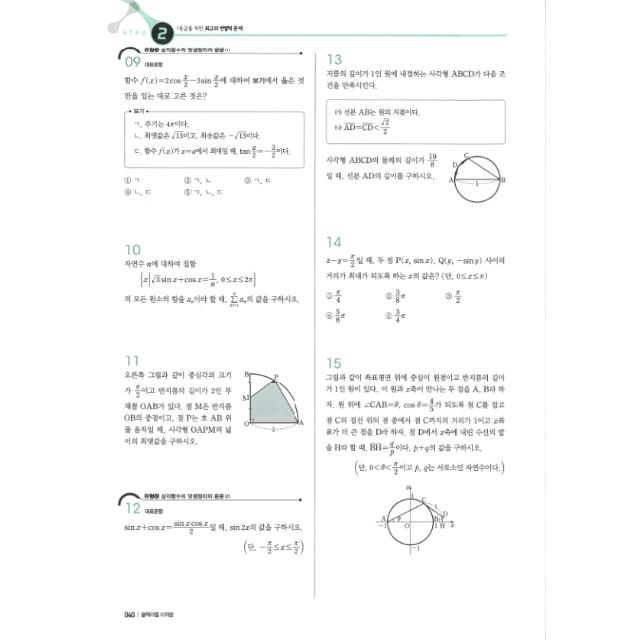multiple: (111, 44, 309, 200), (318, 231, 510, 331)
short: (319, 351, 515, 563), (318, 46, 520, 208), (116, 346, 310, 454), (110, 482, 310, 562), (115, 236, 308, 314)
